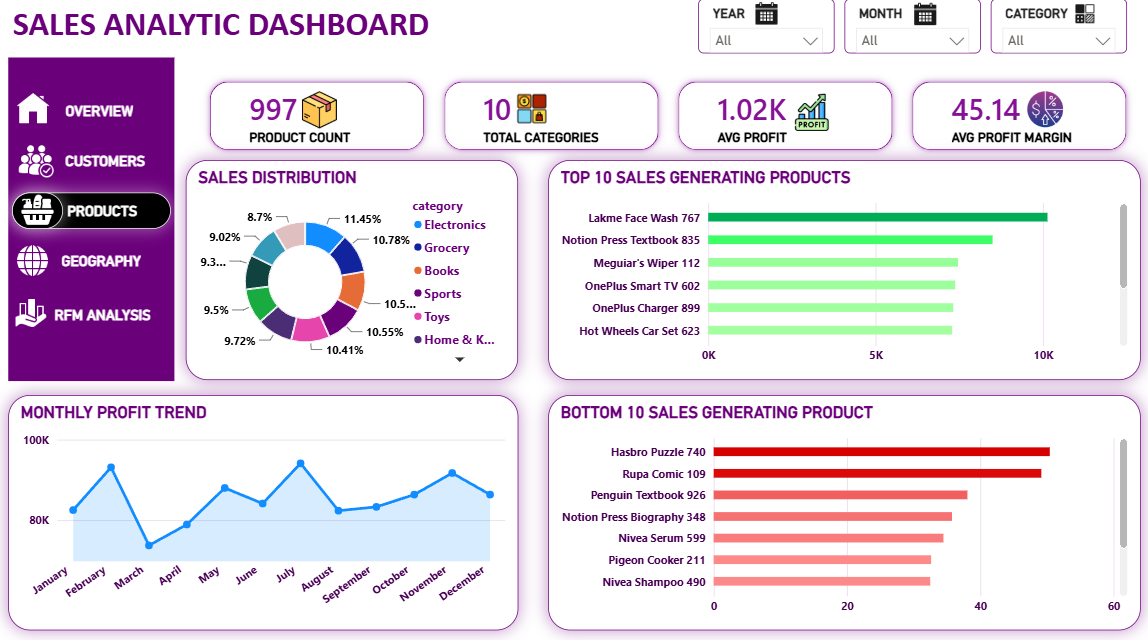

The page's visual inventory and layout, read from the dashboard file:
{"tool":"powerbi","page":{"name":"PRODUCTS","canvas":[1280,720],"ordinal":2},"visuals":[{"type":"textbox","box":[23.3,9.6,516,60.4],"z":0},{"type":"slicer","fields":{"Values":["amazon_db rfm_customers_segmentation.customer_type"]},"box":[1101.9,9.6,149.6,60.4],"z":1000},{"type":"slicer","fields":{"Values":["amazon_db merged_table.order_date.Variation.Date Hierarchy.Year"]},"box":[780.8,9.6,149.6,60.4],"z":2000},{"type":"slicer","fields":{"Values":["amazon_db merged_table.order_date.Variation.Date Hierarchy.Month"]},"box":[941.3,9.6,149.6,60.4],"z":3000},{"type":"image","box":[842.5,11,26.1,30.2],"z":4000},{"type":"image","box":[1132.1,13.7,146.8,24.7],"z":5000},{"type":"image","box":[1016.8,6.9,26.1,39.8],"z":6000},{"type":"shape","box":[23.3,74.1,182.5,355.4],"z":7000},{"type":"actionButton","box":[64.5,112.5,100.2,39.8],"z":8000},{"type":"actionButton","box":[42.5,167.1,174.3,39.8],"z":9000},{"type":"actionButton","box":[27.4,222.3,174.3,39.8],"z":10000},{"type":"actionButton","box":[75.5,277.2,100.2,39.8],"z":11000},{"type":"image","box":[26.1,167.4,56.3,38.4],"z":12000},{"type":"image","box":[31.6,273.1,37,48],"z":13000},{"type":"image","box":[27.4,222.3,56.3,39.8],"z":14000},{"type":"image","box":[30.2,112.5,41.2,35.7],"z":15000},{"type":"actionButton","box":[70,336.2,113.9,39.8],"z":16000},{"type":"image","box":[27.4,336.2,41.2,37],"z":17000},{"type":"cardVisual","fields":{"Data":["Count(amazon_db merged_table.product_id)","Count(amazon_db merged_table.category)","Avg(amazon_db merged_table.profit)","Avg(amazon_db merged_table.profit_margin)"]},"box":[216.7,73.3,1063.3,131.7],"z":18000},{"type":"barChart","title":"TOP 10 SALES GENERATING PRODUCTS","fields":{"Category":["amazon_db merged_table.product_name"],"Y":["Sum(amazon_db merged_table.sales)"]},"box":[616.7,186.7,650,241.7],"z":19000},{"type":"donutChart","title":"SALES DISTRIBUTION","fields":{"Y":["Sum(amazon_db merged_table.sales)"],"Category":["amazon_db merged_table.category"]},"box":[218.2,186.6,365,241.5],"z":20000},{"type":"lineChart","title":"MONTHLY PROFIT TREND","fields":{"Category":["amazon_db merged_table.order_date.Variation.Date Hierarchy.Month"],"Y":["Sum(amazon_db merged_table.profit)"]},"box":[23.3,445,560,258.3],"z":21000},{"type":"barChart","title":"BOTTOM 10 SALES  GENERATING PRODUCT","fields":{"Category":["amazon_db merged_table.product_name"],"Y":["Sum(amazon_db merged_table.sales)"]},"box":[616.7,445,650,258.3],"z":22000},{"type":"image","box":[539.3,113.9,118,32.9],"z":23000},{"type":"image","box":[1117,108.4,89.2,43.9],"z":24000},{"type":"image","box":[824.7,113.9,161.9,41.2],"z":25000},{"type":"image","box":[329.3,111.1,71.4,41.2],"z":26000}]}

Visuals, with their boxes in screenshot pixels (x1, y1, x2, y2), scaled from the page's 1280x720 canvas onto the 1148x640 screenshot:
textbox: (left=21, top=9, right=484, bottom=62)
slicer - amazon_db rfm_customers_segmentation.customer_type: (left=988, top=9, right=1122, bottom=62)
slicer - amazon_db merged_table.order_date.Variation.Date Hierarchy.Year: (left=700, top=9, right=834, bottom=62)
slicer - amazon_db merged_table.order_date.Variation.Date Hierarchy.Month: (left=844, top=9, right=978, bottom=62)
image: (left=756, top=10, right=779, bottom=37)
image: (left=1015, top=12, right=1147, bottom=34)
image: (left=912, top=6, right=935, bottom=42)
shape: (left=21, top=66, right=185, bottom=382)
actionButton: (left=58, top=100, right=148, bottom=135)
actionButton: (left=38, top=149, right=194, bottom=184)
actionButton: (left=25, top=198, right=181, bottom=233)
actionButton: (left=68, top=246, right=158, bottom=282)
image: (left=23, top=149, right=74, bottom=183)
image: (left=28, top=243, right=62, bottom=285)
image: (left=25, top=198, right=75, bottom=233)
image: (left=27, top=100, right=64, bottom=132)
actionButton: (left=63, top=299, right=165, bottom=334)
image: (left=25, top=299, right=62, bottom=332)
cardVisual - Count(amazon_db merged_table.product_id) x Count(amazon_db merged_table.category): (left=194, top=65, right=1147, bottom=182)
"TOP 10 SALES GENERATING PRODUCTS" barChart: (left=553, top=166, right=1136, bottom=381)
"SALES DISTRIBUTION" donutChart: (left=196, top=166, right=523, bottom=381)
"MONTHLY PROFIT TREND" lineChart: (left=21, top=396, right=523, bottom=625)
"BOTTOM 10 SALES  GENERATING PRODUCT" barChart: (left=553, top=396, right=1136, bottom=625)
image: (left=484, top=101, right=590, bottom=130)
image: (left=1002, top=96, right=1082, bottom=135)
image: (left=740, top=101, right=885, bottom=138)
image: (left=295, top=99, right=359, bottom=135)
